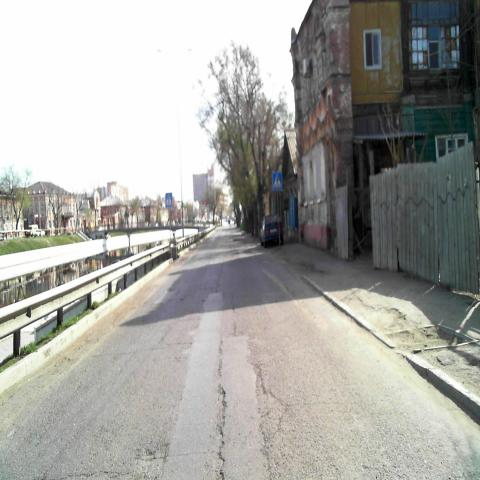5_19_1: (272, 172, 282, 190)
